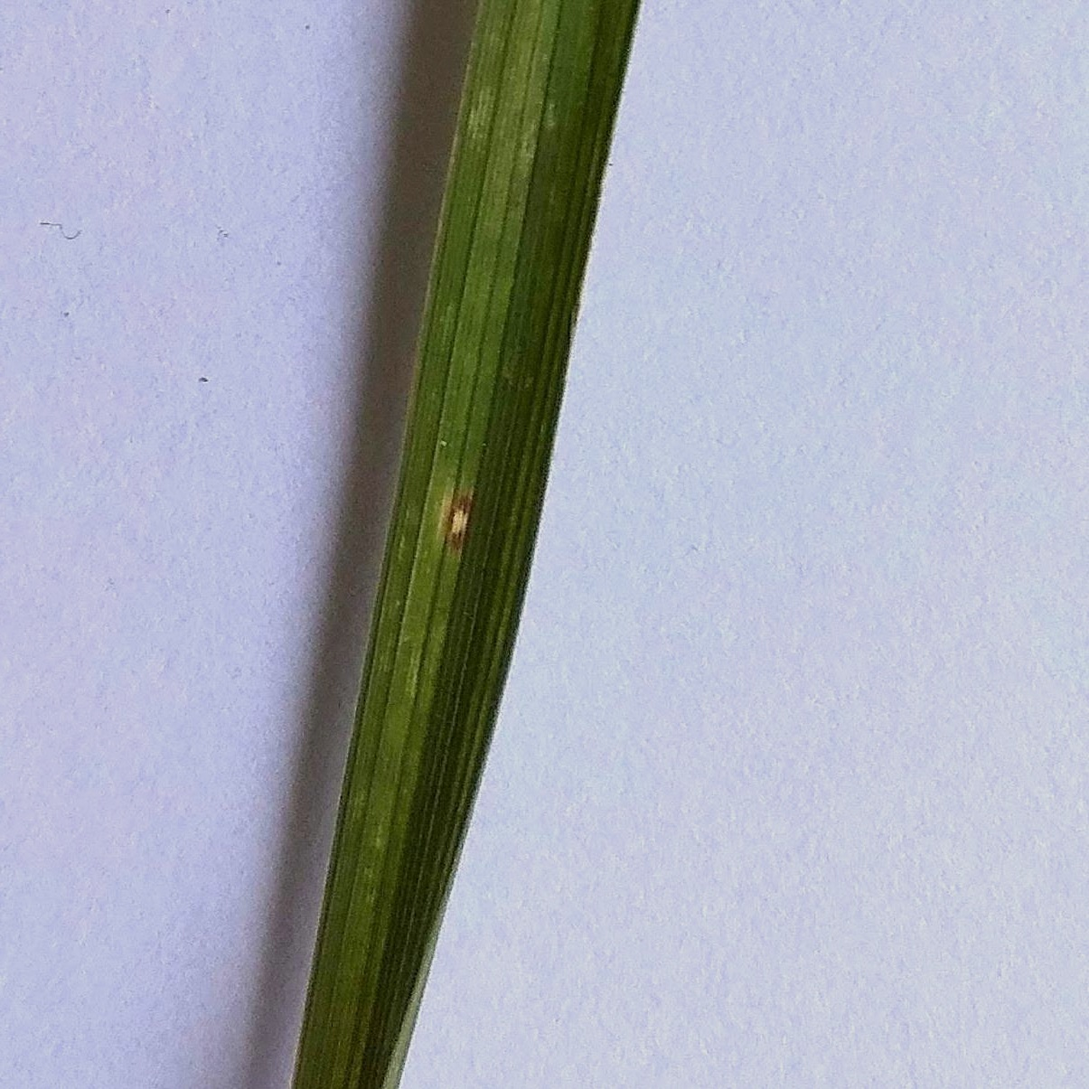Brown_Spot: (431, 470, 486, 569)
